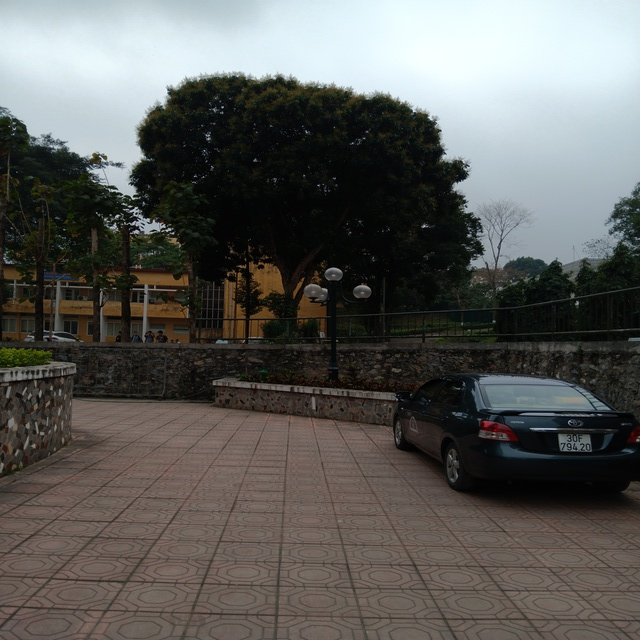cotden: (302, 261, 373, 396)
